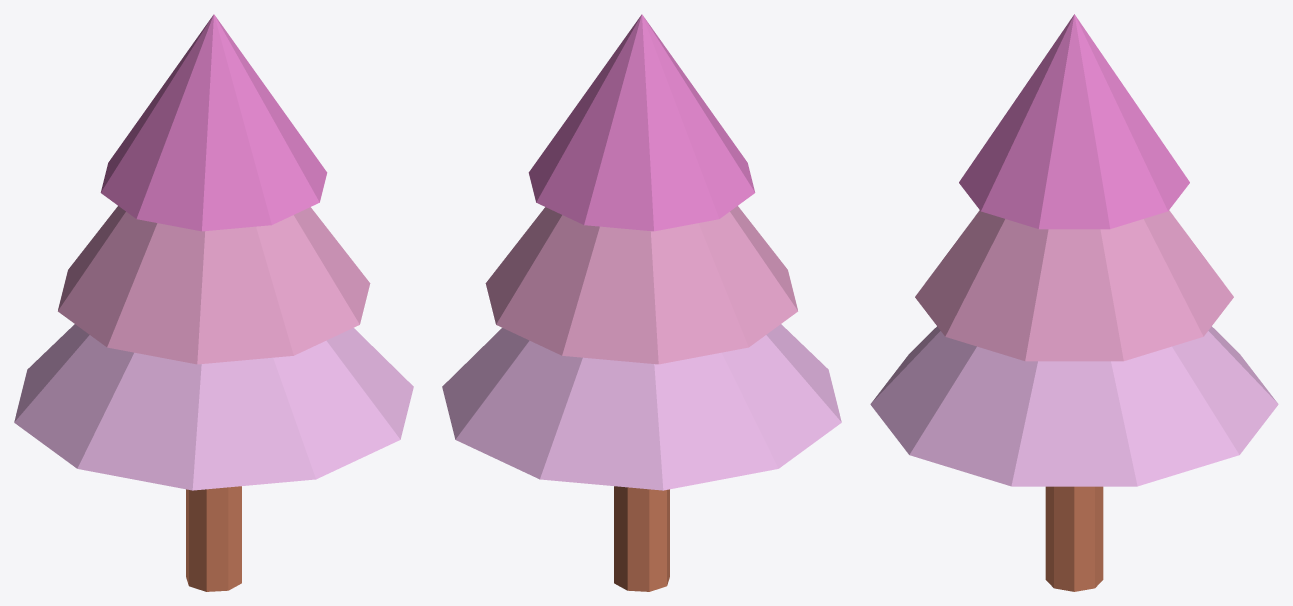
The model's file is pinetree 2.fbx.
The picture shows the model from 3 angles, left to right: view 1: azimuth 30°, elevation 25°; view 2: azimuth 150°, elevation 25°; view 3: azimuth 270°, elevation 25°; orthographic projection.
Parts seen in each view (by area): view 1: 锥体.003, 锥体.002, 锥体.001, 柱体.001; view 2: 锥体.003, 锥体.002, 锥体.001, 柱体.001; view 3: 锥体.003, 锥体.002, 锥体.001, 柱体.001.
Part boxes in pixels (x1,y1,x2,y2): 锥体.003: (14, 324, 413, 490); 锥体.002: (58, 206, 370, 364); 锥体.001: (100, 14, 327, 231); 柱体.001: (186, 486, 241, 591); 锥体.003: (442, 324, 841, 490); 锥体.002: (485, 206, 797, 364); 锥体.001: (528, 14, 755, 231); 柱体.001: (614, 486, 669, 591); 锥体.003: (870, 326, 1278, 486); 锥体.002: (915, 210, 1233, 361); 锥体.001: (959, 14, 1189, 229); 柱体.001: (1045, 486, 1103, 591).
Size of the model in its own units: 201 by 324 by 212.
